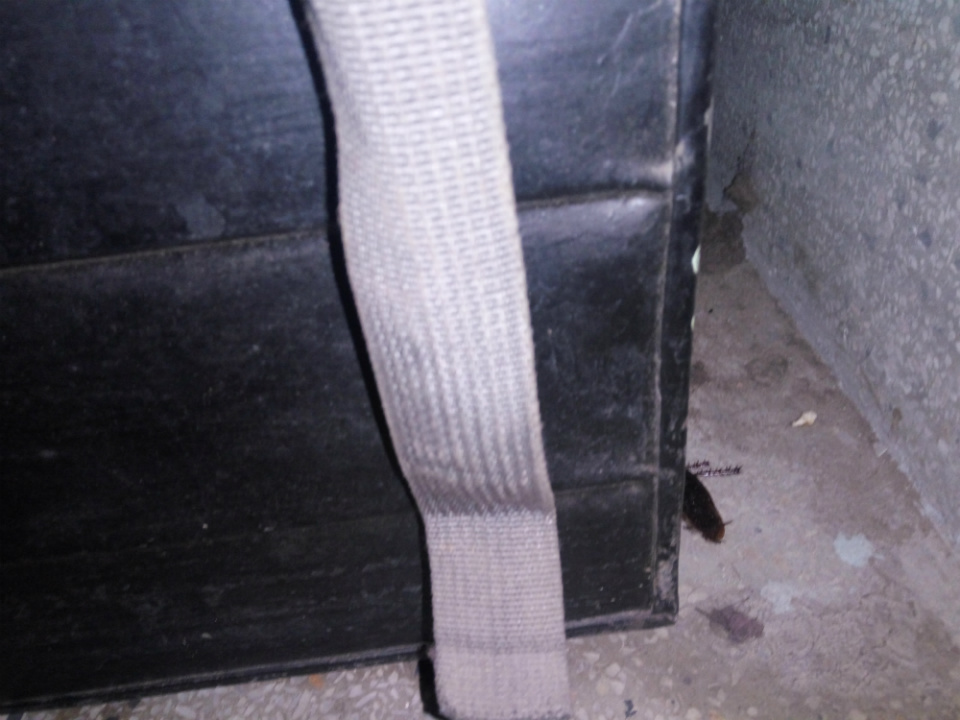cockroach: (684, 444, 755, 551)
